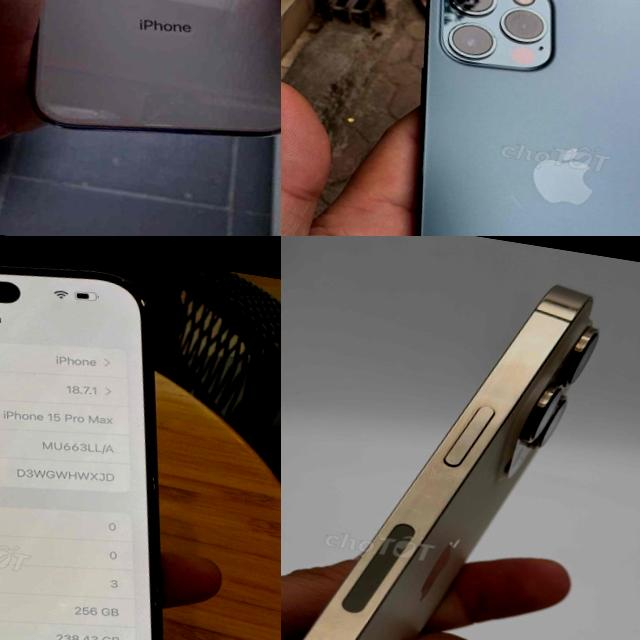gen_12_13: (356, 0, 640, 236)
gen_14: (302, 286, 597, 640)
gen_15: (0, 236, 259, 640)
gen_x_xs: (0, 0, 281, 174)
